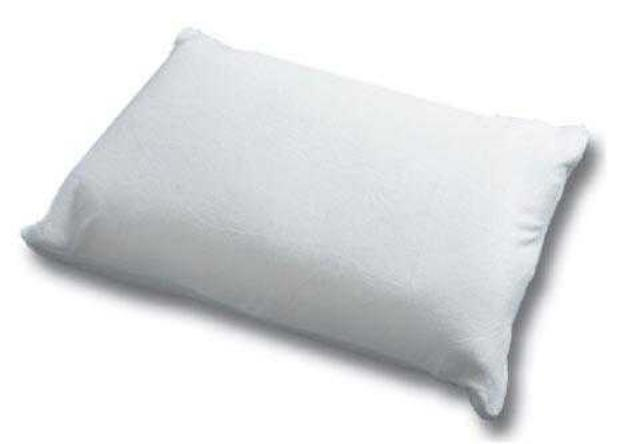pillow: (21, 24, 590, 420)
